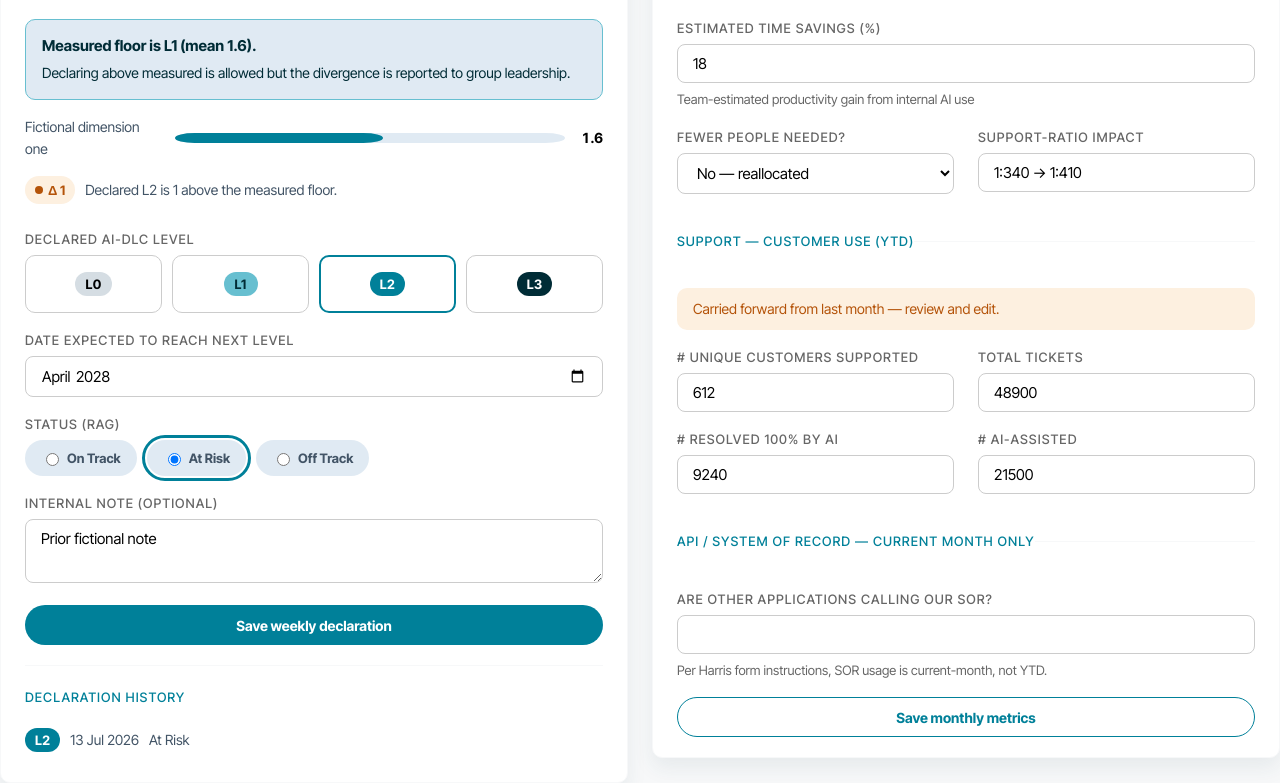
Test: BuFormsScreen (HAP-15; FR-047/FR-048; bu-forms mockup) › shows a 403-specific inline error for the metrics form
The image size is (1280, 783).
(page scrolled)
Click the button "Save monthly metrics".
click(966, 717)  # box left=677, top=697, right=1255, bottom=737
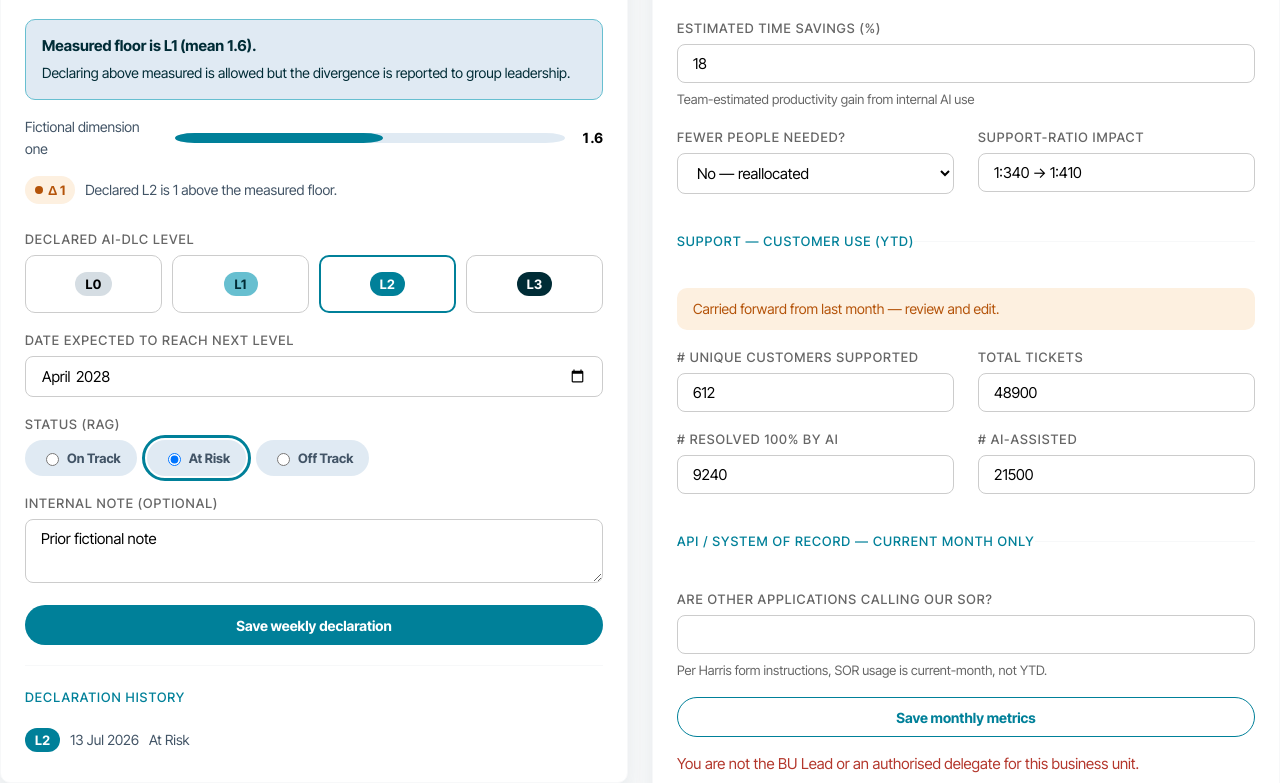
Check: the text "You are not the BU Lead or an authorised delegate for this business unit." is shown, box left=677, top=754, right=1139, bottom=773
